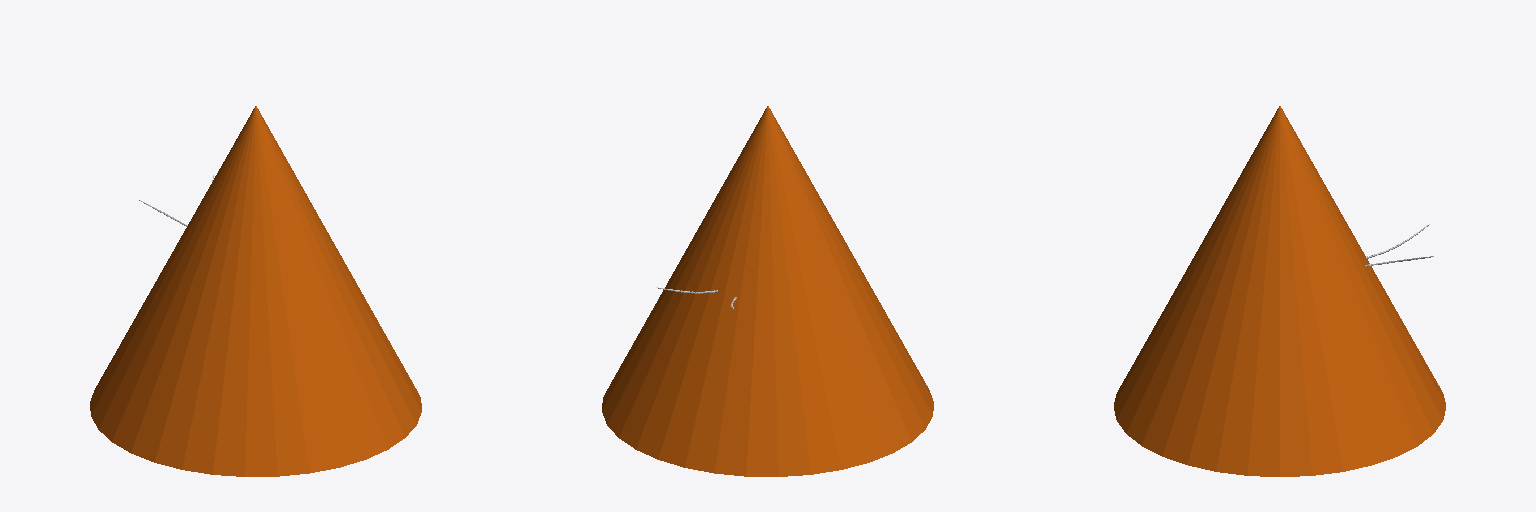
The model's file is coneAntenne.obj.
The picture shows the model from 3 angles: view 1: azimuth 30°, elevation 25°; view 2: azimuth 150°, elevation 25°; view 3: azimuth 270°, elevation 25°; orthographic projection.
Parts seen in each view (by area): view 1: Cone; view 2: Cone; view 3: Cone.
Part boxes in pixels (x1,y1,x2,y2): Cone: (90, 106, 421, 476); Cone: (602, 106, 933, 476); Cone: (1114, 106, 1445, 476).
Bounding box in the file's own units: 12.74 × 12.74 × 12.74.